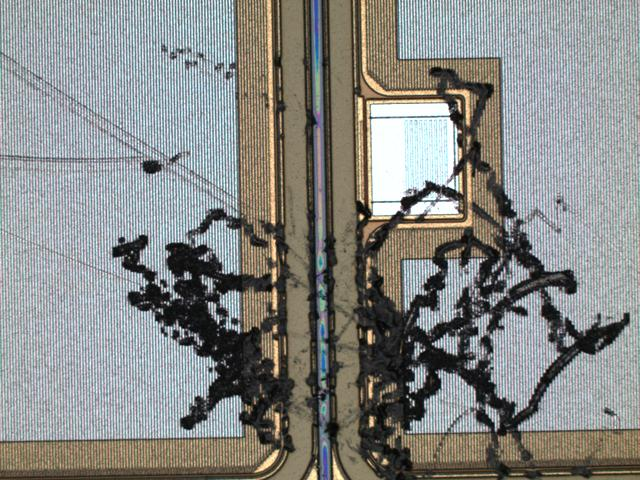SCRATCH: (1, 53, 640, 480)
